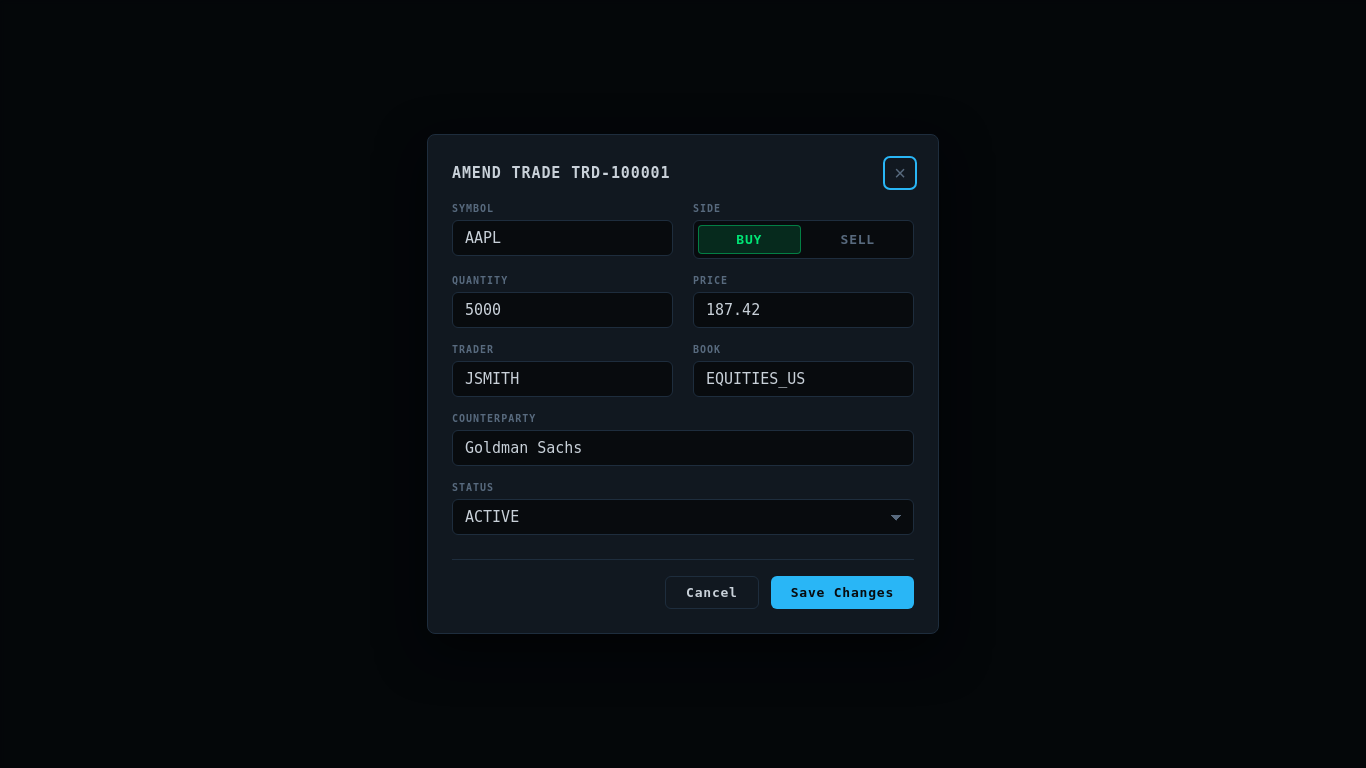
Test: AmendTradeModal › enforces validation: an invalid symbol shows the format error and does not submit
Note: Replace the pre-filled symbol with an invalid lowercase value.
Type "aapl" into the field labelled "Symbol" at (562, 238), box [452,220,673,256]
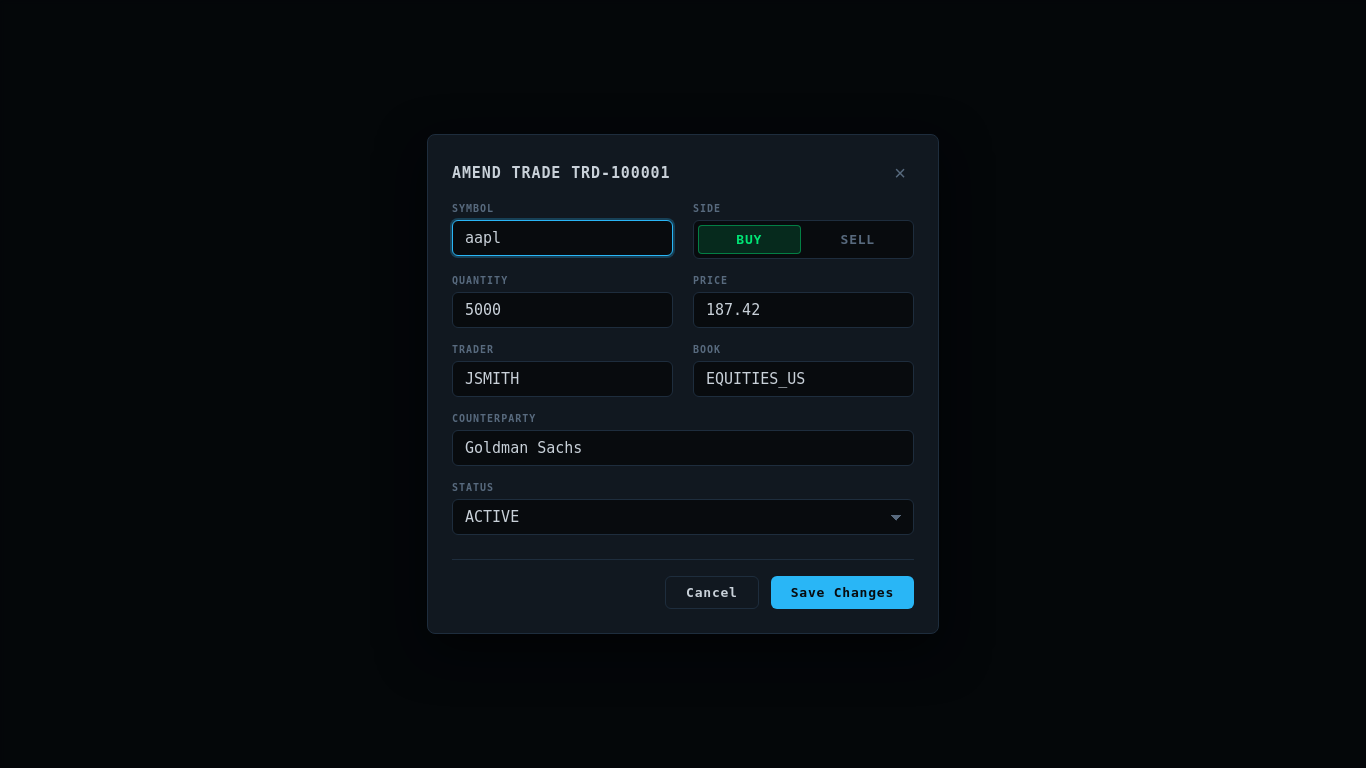
Click the button "Save Changes" at (842, 593), box [771,576,914,609]
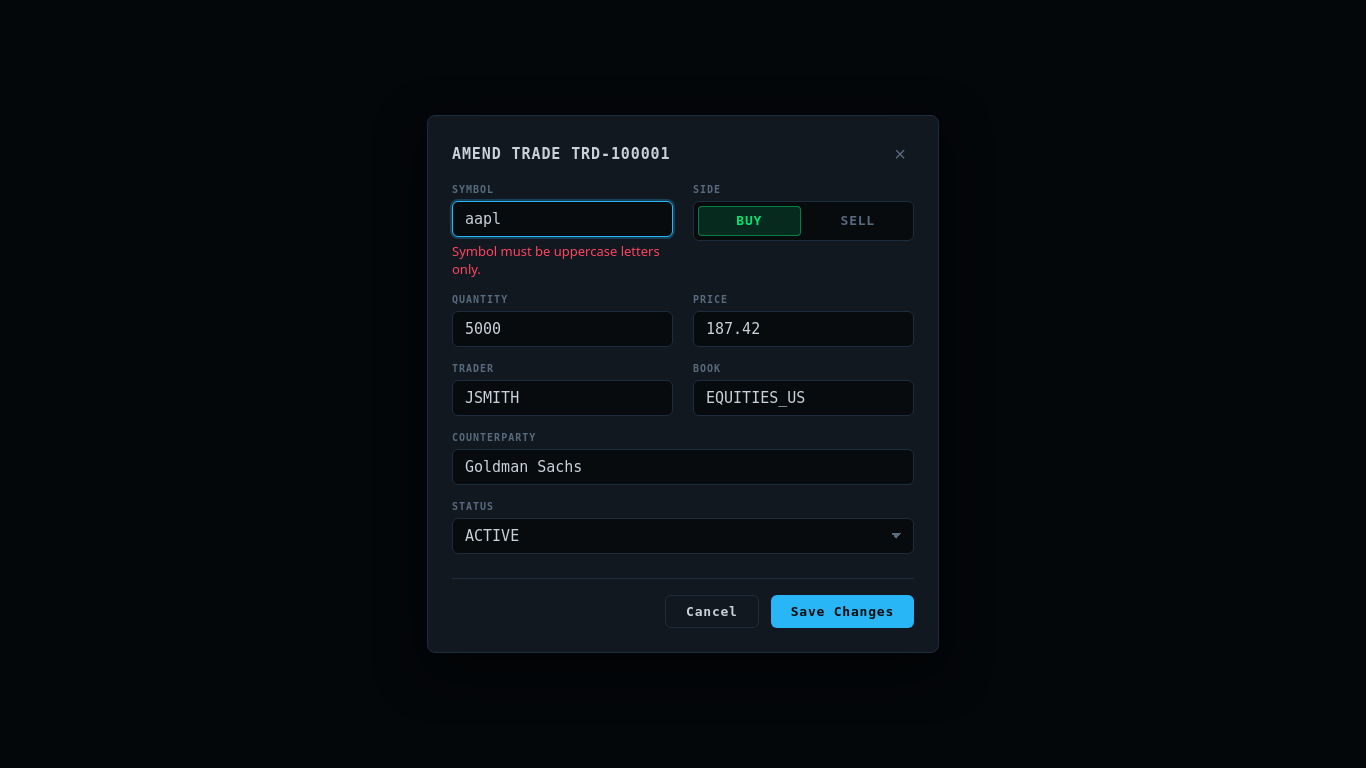
Expected: the text "Symbol must be uppercase letters only." is shown, [452,243,673,278]
